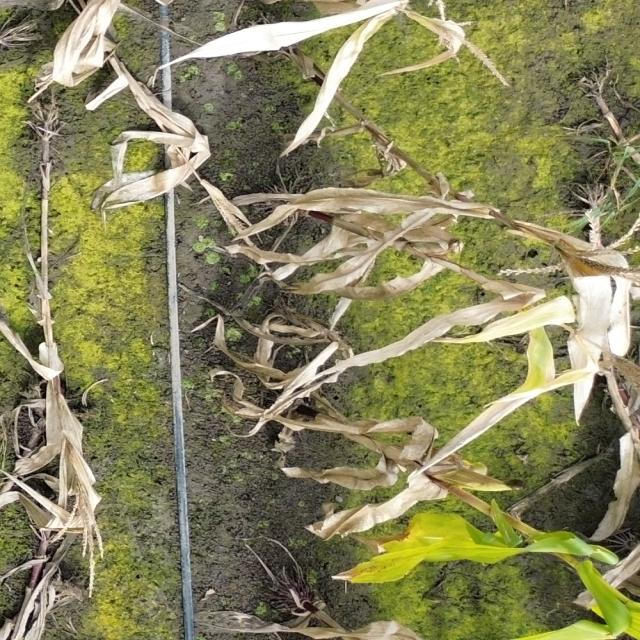northern-leaf-blight: (329, 512, 437, 589)
